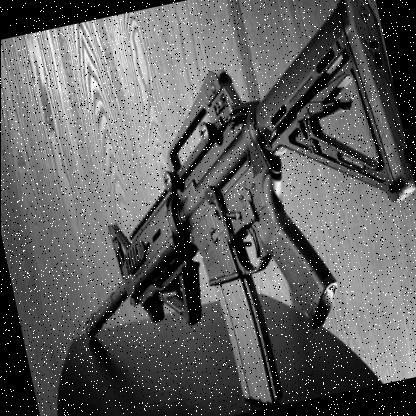rifle: (17, 0, 416, 414)
